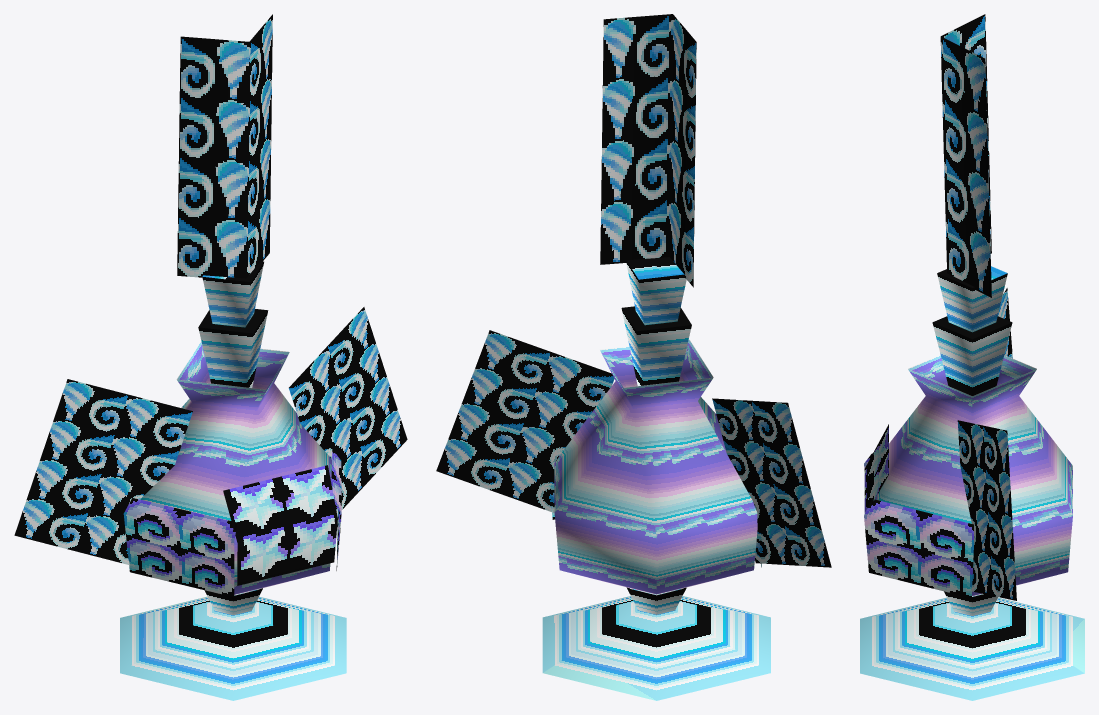
Rendered from 0061uc_m_kous1.gltf.
3 views of the same model, side by side, from view 1: azimuth 30°, elevation 25°; view 2: azimuth 150°, elevation 25°; view 3: azimuth 270°, elevation 25° (orthographic).
Parts seen in each view (by area): view 1: 0061uc_m_kous1; view 2: 0061uc_m_kous1; view 3: 0061uc_m_kous1.
Boxes of the visible parts, x1,y1,x2,y2 form: 0061uc_m_kous1: (14, 14, 407, 700); 0061uc_m_kous1: (436, 14, 831, 700); 0061uc_m_kous1: (860, 14, 1084, 700).
Bounding box in the file's own units: 0.5947 × 0.8914 × 0.2974.
5 materials, 5 textured.
